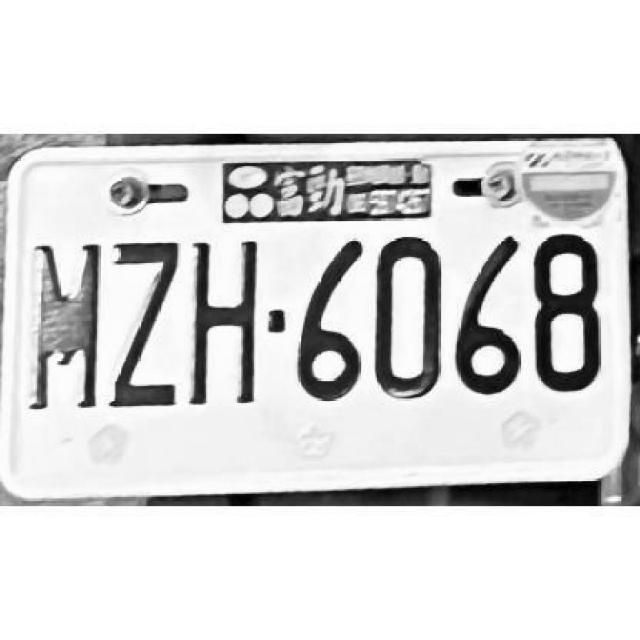-: (268, 303, 288, 329)
0: (372, 234, 443, 400)
6: (289, 232, 366, 403), (448, 230, 524, 398)
8: (526, 230, 602, 398)
H: (188, 232, 258, 411)
M: (32, 238, 105, 420)
Z: (106, 238, 182, 412)
